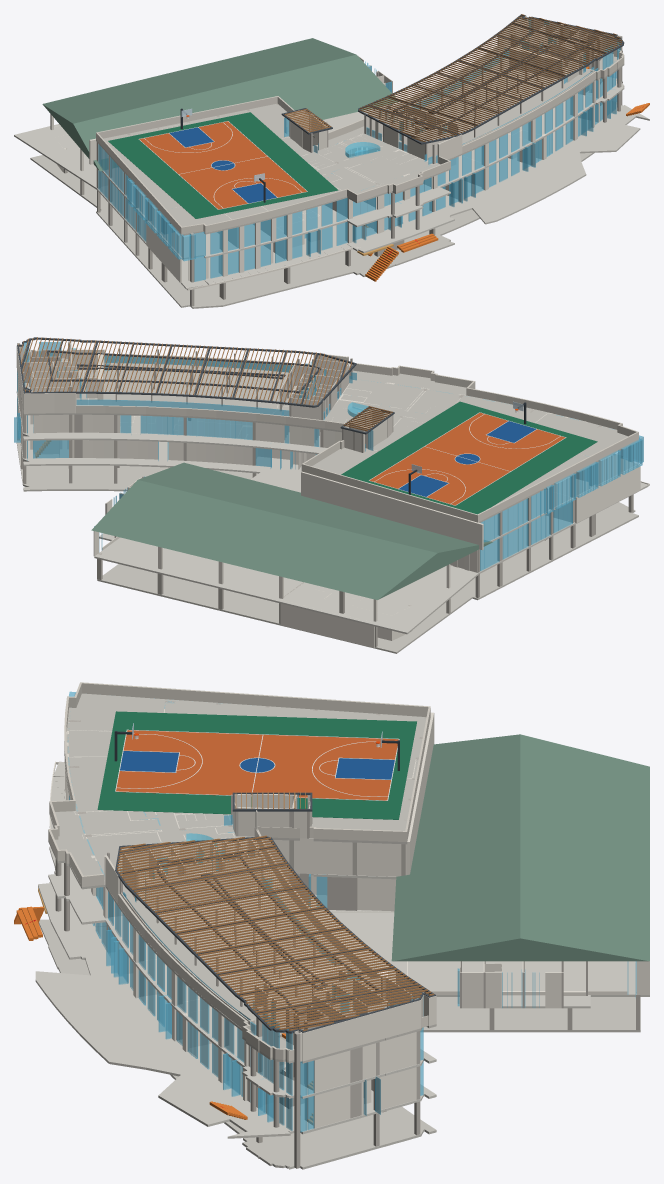
Rendered from building.glb.
3 renders of one model, top to bottom at view 1: azimuth 30°, elevation 25°; view 2: azimuth 150°, elevation 25°; view 3: azimuth 270°, elevation 25°, orthographic. The views are drawn at different scales.
Visible parts, largest first — view 1: F2_Roof_18, F1_Slab_11, F3_Roof_40, F3_Roof_35, F2_Slab_19, F2_Glass_17, F0_Slab_3, F1_Glass_10, F3_Roof_38, F3_Basketball_26, F3_Basketball_25, F3_Roof_37 (+11 smaller); view 2: F2_Roof_18, F3_Roof_35, F1_Slab_11, F0_Slab_3, F3_Roof_38, F2_Wall_22, F2_Slab_19, F3_Roof_37, F3_Basketball_26, F3_Roof_40, F1_Wall_14, F2_Glass_17 (+11 smaller); view 3: F2_Roof_18, F3_Roof_40, F1_Slab_11, F3_Roof_35, F3_Basketball_26, F3_Roof_37, F0_Slab_3, F3_Roof_38, F3_Basketball_25, F2_Wall_22, F1_Wall_14, F2_Slab_19 (+11 smaller).
Boxes of the visible parts, box(x1,y1,x2,y2) form: F2_Roof_18: box(42, 38, 398, 171); F1_Slab_11: box(14, 101, 649, 289); F3_Roof_40: box(284, 14, 622, 142); F3_Roof_35: box(96, 45, 624, 235); F2_Slab_19: box(102, 77, 624, 259); F2_Glass_17: box(98, 71, 617, 261); F0_Slab_3: box(30, 152, 594, 308); F1_Glass_10: box(98, 61, 617, 281); F3_Roof_38: box(96, 45, 624, 234); F3_Basketball_26: box(139, 121, 306, 209); F3_Basketball_25: box(108, 112, 338, 218); F3_Roof_37: box(286, 15, 618, 163); F2_Roof_18: box(91, 462, 492, 599); F3_Roof_35: box(16, 358, 638, 522); F1_Slab_11: box(16, 416, 648, 634); F0_Slab_3: box(16, 441, 638, 653); F3_Roof_38: box(25, 350, 638, 522); F2_Wall_22: box(17, 371, 586, 550); F2_Slab_19: box(16, 391, 638, 541); F3_Roof_37: box(16, 343, 392, 452); F3_Basketball_26: box(369, 412, 565, 505); F3_Roof_40: box(18, 337, 392, 431); F1_Wall_14: box(17, 400, 649, 572); F2_Glass_17: box(17, 371, 643, 542); F2_Roof_18: box(391, 734, 649, 961); F3_Roof_40: box(117, 791, 434, 1031); F1_Slab_11: box(35, 761, 649, 1138); F3_Roof_35: box(48, 693, 436, 1063); F3_Basketball_26: box(116, 730, 398, 800); F3_Roof_37: box(104, 794, 436, 1061); F0_Slab_3: box(38, 869, 640, 1169); F3_Roof_38: box(48, 682, 430, 1061); F3_Basketball_25: box(97, 711, 416, 819); F2_Wall_22: box(65, 709, 434, 1092); F1_Wall_14: box(49, 761, 649, 1128); F2_Slab_19: box(48, 763, 436, 1098).
Size of the model in its own units: 91.22 by 16.2 by 65.23.
